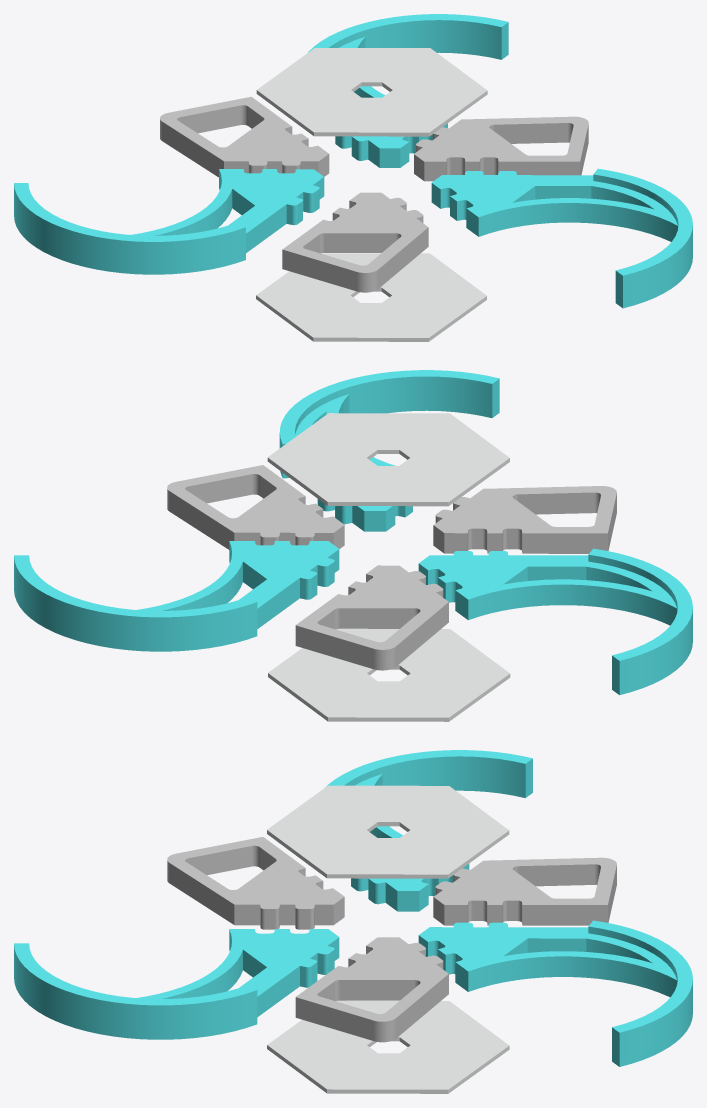
File: wheel.glb
3 views of the same model, one above another, from view 1: azimuth 30°, elevation 25°; view 2: azimuth 150°, elevation 25°; view 3: azimuth 270°, elevation 25° (orthographic). The views are drawn at different scales.
Parts seen in each view (by area): view 1: Part 3 (×3), Part 1 (×2), Part 2 (×3); view 2: Part 3 (×3), Part 1 (×2), Part 2 (×3); view 3: Part 3 (×3), Part 2 (×3), Part 1 (×2).
Boxes of the visible parts, x1,y1,x2,y2 form: Part 3 (×3): (14,14,692,308); Part 1 (×2): (256,48,487,341); Part 2 (×3): (160,96,588,292); Part 3 (×3): (14,370,692,695); Part 1 (×2): (267,413,510,721); Part 2 (×3): (167,465,616,670); Part 3 (×3): (14,750,692,1066); Part 2 (×3): (167,837,616,1042); Part 1 (×2): (267,785,509,1093).
Size of the model in its own units: 0.4416 by 0.1599 by 0.4483.
